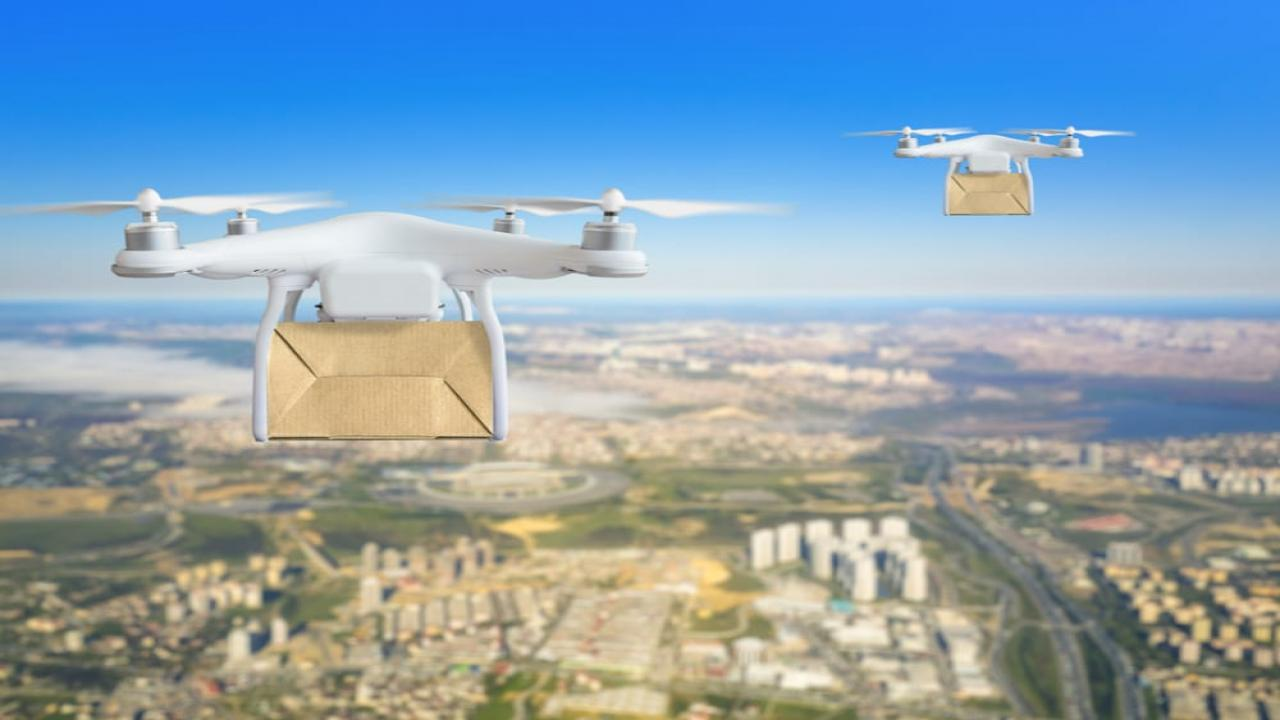Drone: (0, 177, 807, 458), (834, 118, 1147, 224)
